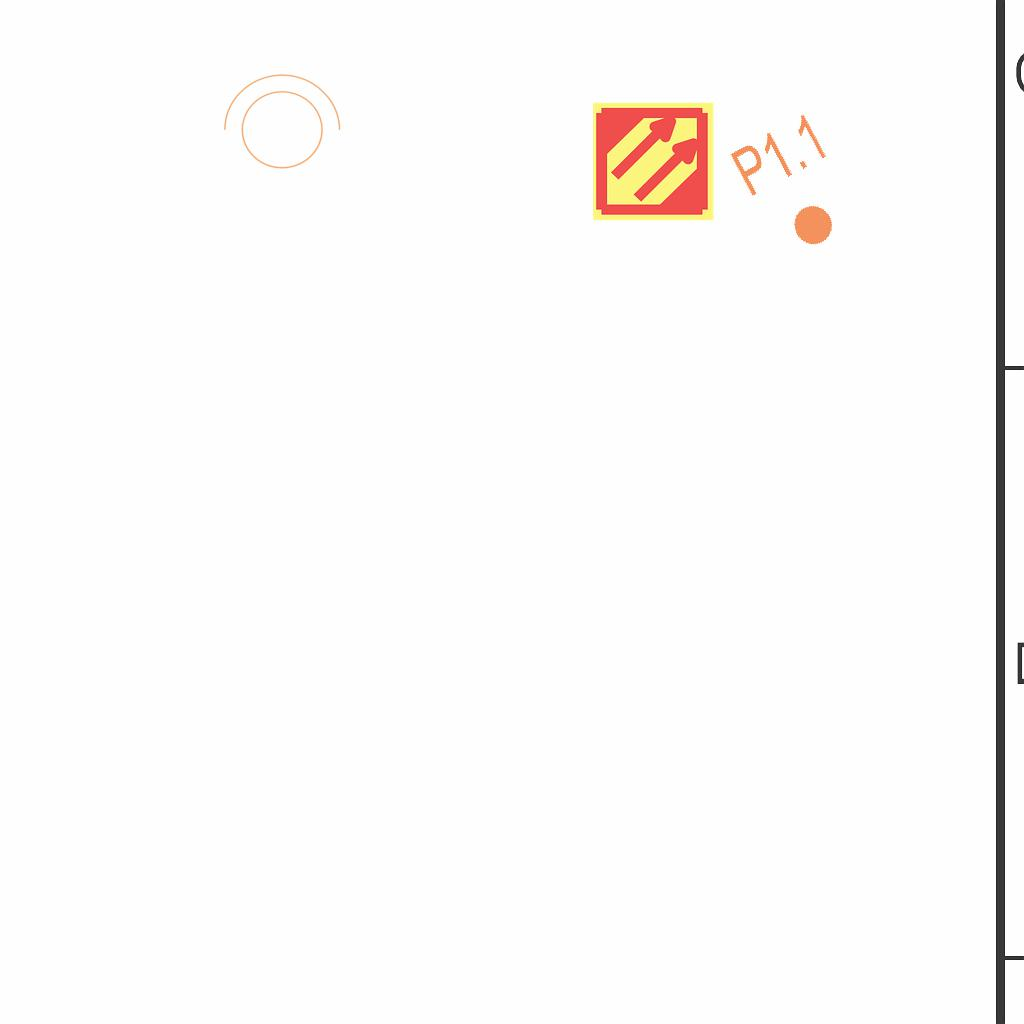ASR_Ansaugrauchmelder: (591, 99, 716, 224)
Downlight_LED_Einbauleuchten_Flur: (725, 108, 868, 266)
Scheinwerfer_fuer_Alarmbeleuchtung: (213, 69, 345, 181)
